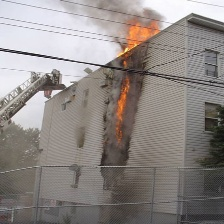fire: (110, 17, 157, 148)
smoke: (67, 1, 158, 31)
